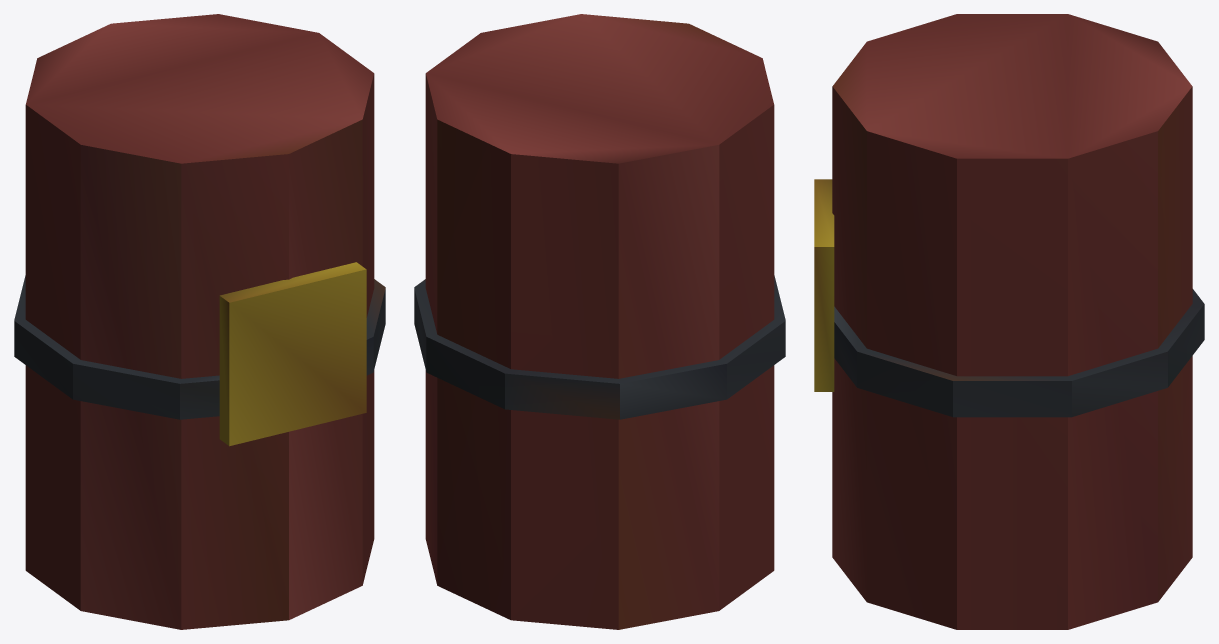
The model's file is barrel_red.glb.
3 renders of one model, left to right at view 1: azimuth 30°, elevation 25°; view 2: azimuth 150°, elevation 25°; view 3: azimuth 270°, elevation 25°, orthographic.
Parts seen in each view (by area): view 1: barrel_red; view 2: barrel_red; view 3: barrel_red.
Part boxes in pixels (x1,y1,x2,y2): barrel_red: (14,14,385,629); barrel_red: (414,14,785,629); barrel_red: (814,14,1204,629).
Bounding box in the file's own units: 18.26 × 26 × 19.5.
